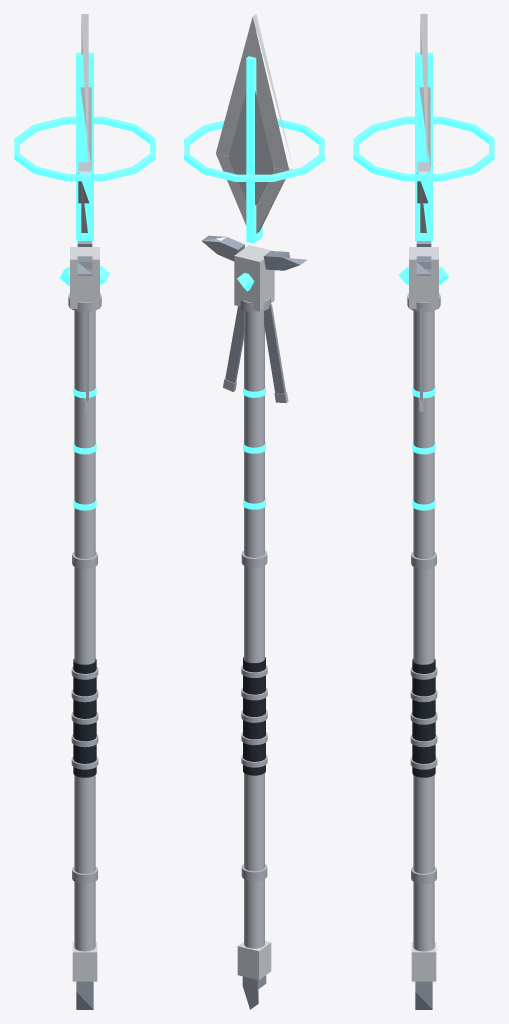
3 views of the same model, side by side, from view 1: azimuth 90°, elevation 25°; view 2: azimuth 150°, elevation 25°; view 3: azimuth 270°, elevation 25° (orthographic).
Parts seen in each view (by area): view 1: zenith-lance; view 2: zenith-lance; view 3: zenith-lance.
Part boxes in pixels (bbox=[...]): zenith-lance: bbox=[14, 14, 155, 1009]; zenith-lance: bbox=[184, 14, 324, 1009]; zenith-lance: bbox=[353, 14, 494, 1009].
Size of the model in its own units: 0.2756 by 2.14 by 0.2756.
